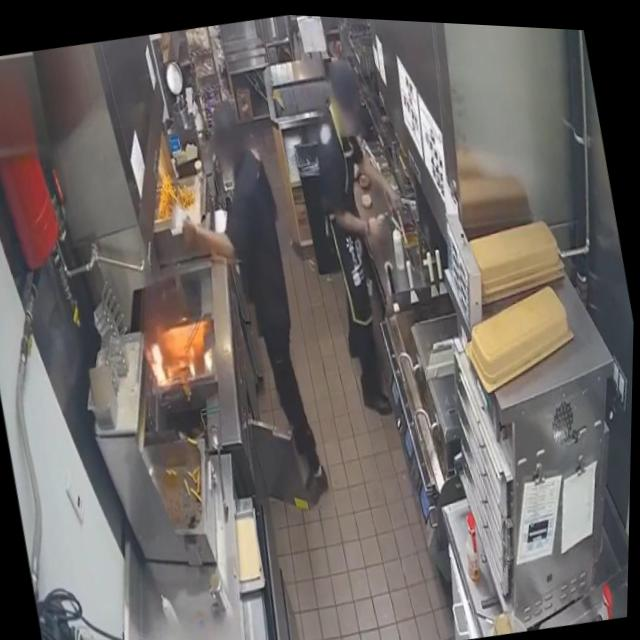fire: (143, 331, 173, 387)
